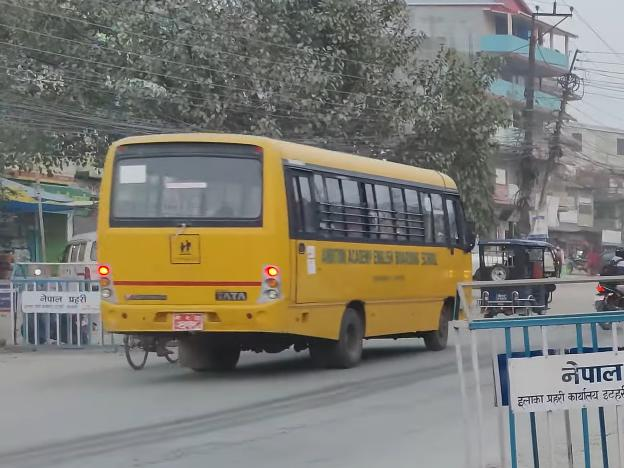e-rickshaw: (479, 239, 564, 320)
school_bus: (93, 129, 482, 370)
